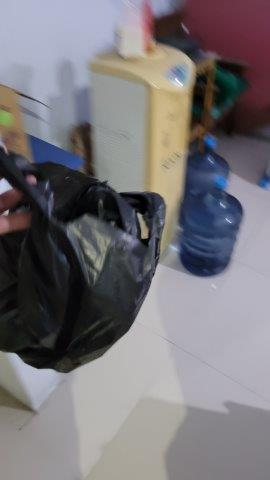plastik: (1, 156, 166, 373)
